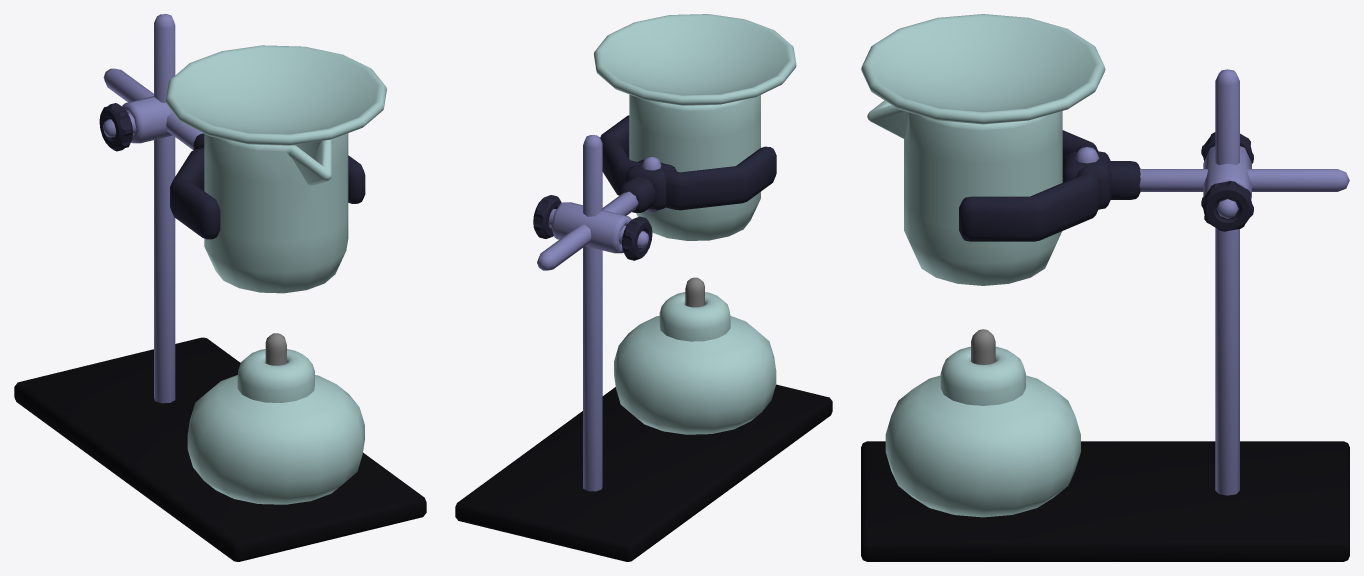
File: LastLuna_Model_Station_Heater.fbx
The picture shows the model from 3 angles, left to right: view 1: azimuth 30°, elevation 25°; view 2: azimuth 150°, elevation 25°; view 3: azimuth 270°, elevation 25°; orthographic projection. The views are drawn at different scales.
Visible parts, largest first — view 1: Stand_Base001, Alcohol_Lamp001, Beaker001, Watch_Glass001, Stand_Pole001, Stand_Arm_Clip_Right001, Stand_Fixture001, Stand_Arm_Clip_Rod001, Stand_Fixture_Handle001, Stand_Arm_Clip_Left001, Alcohol_Lamp_Wick001; view 2: Stand_Base001, Alcohol_Lamp001, Watch_Glass001, Beaker001, Stand_Pole001, Stand_Arm_Clip_Right001, Stand_Fixture001, Stand_Arm_Clip_Rod001, Stand_Arm_Clip_Left001, Stand_Arm_Clip001, Stand_Fixture_Handle001, Alcohol_Lamp_Wick001; view 3: Stand_Base001, Alcohol_Lamp001, Watch_Glass001, Beaker001, Stand_Pole001, Stand_Arm_Clip_Left001, Stand_Arm_Clip_Rod001, Stand_Arm_Clip001, Stand_Fixture_Handle001, Stand_Fixture001, Alcohol_Lamp_Wick001.
Boxes of the visible parts, box(x1,y1,x2,y2) form: Stand_Base001: box(14, 337, 426, 561); Alcohol_Lamp001: box(187, 349, 364, 504); Beaker001: box(204, 133, 348, 293); Watch_Glass001: box(165, 45, 386, 145); Stand_Pole001: box(154, 14, 175, 403); Stand_Arm_Clip_Right001: box(170, 147, 220, 239); Stand_Fixture001: box(103, 96, 172, 143); Stand_Arm_Clip_Rod001: box(103, 68, 203, 149); Stand_Fixture_Handle001: box(99, 103, 132, 151); Stand_Arm_Clip_Left001: box(348, 155, 365, 203); Alcohol_Lamp_Wick001: box(265, 333, 286, 365); Stand_Base001: box(455, 384, 832, 561); Alcohol_Lamp001: box(614, 292, 776, 434); Watch_Glass001: box(593, 14, 796, 105); Beaker001: box(629, 94, 760, 240); Stand_Pole001: box(583, 135, 602, 491); Stand_Arm_Clip_Right001: box(663, 146, 776, 210); Stand_Fixture001: box(548, 202, 648, 253); Stand_Arm_Clip_Rod001: box(537, 191, 638, 270); Stand_Arm_Clip_Left001: box(600, 115, 639, 195); Stand_Arm_Clip001: box(619, 159, 676, 212); Stand_Fixture_Handle001: box(533, 195, 652, 260); Alcohol_Lamp_Wick001: box(685, 277, 704, 307); Stand_Base001: box(861, 441, 1349, 561); Alcohol_Lamp001: box(885, 346, 1080, 517); Watch_Glass001: box(861, 14, 1105, 124); Beaker001: box(867, 100, 1062, 285); Stand_Pole001: box(1215, 69, 1239, 495); Stand_Arm_Clip_Left001: box(959, 165, 1099, 241); Stand_Arm_Clip_Rod001: box(1139, 169, 1349, 191); Stand_Arm_Clip001: box(1062, 151, 1140, 209); Stand_Fixture_Handle001: box(1201, 132, 1253, 231); Stand_Fixture001: box(1203, 146, 1251, 218); Alcohol_Lamp_Wick001: box(971, 329, 995, 364).
Size of the model in its own units: 39.37 by 79.84 by 78.74.
